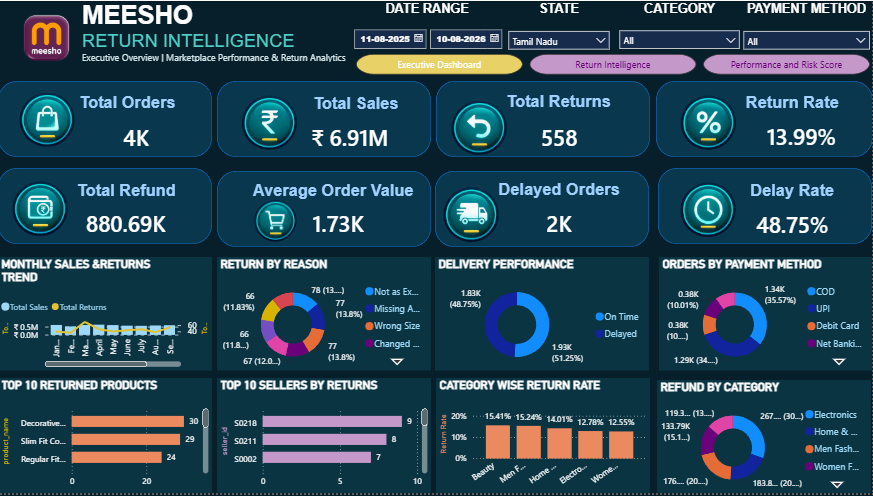

The page's visual inventory and layout, read from the dashboard file:
{"tool":"powerbi","page":{"name":"Executive Dashboard","canvas":[1280,720],"ordinal":0},"visuals":[{"type":"textbox","box":[122.5,0,532.5,88.8],"z":0},{"type":"image","box":[0,0,142,108.3],"z":1},{"type":"slicer","title":"DATE RANGE","fields":{"Values":["meesho_project orders.order_date"]},"box":[514.3,0,228.6,77.1],"z":3},{"type":"slicer","title":"STATE","fields":{"Values":["meesho_project customers.state"]},"box":[741.4,0,158,89.3],"z":4},{"type":"slicer","title":"PAYMENT METHOD","fields":{"Values":["meesho_project orders.payment_method"]},"box":[1085.7,0,194.6,71.7],"z":5},{"type":"slicer","title":"CATEGORY","fields":{"Values":["meesho_project products.category"]},"box":[904,0,185.9,74.6],"z":6},{"type":"shape","box":[0,117.1,313.2,111.2],"z":7},{"type":"textbox","box":[68.6,130,241.4,38.6],"z":8},{"type":"cardVisual","fields":{"Data":["Measures (2).Total Orders"]},"box":[157.1,172.9,91.4,50],"z":9},{"type":"shape","box":[320.5,117.1,313.2,111.2],"z":10},{"type":"shape","box":[320,248.6,313.2,111.2],"z":11},{"type":"shape","box":[0,244.3,313.2,111.2],"z":12},{"type":"shape","box":[640,248.6,313.2,111.2],"z":13},{"type":"shape","box":[965.7,244.3,313.2,111.2],"z":14},{"type":"shape","box":[641.4,117.1,313.2,111.2],"z":15},{"type":"shape","box":[962.9,117.1,317.1,111.4],"z":16},{"type":"cardVisual","fields":{"Data":["Measures (2).Return Rate"]},"box":[1117.1,171.4,118.6,50],"z":17},{"type":"cardVisual","fields":{"Data":["Measures (2).Total Returns"]},"box":[775.7,172.9,91.4,50],"z":18},{"type":"cardVisual","fields":{"Data":["Measures (2).Total Sales"]},"box":[450,172.9,128.6,50],"z":19},{"type":"cardVisual","fields":{"Data":["Measures (2).Delay Rate"]},"box":[1105.7,300,112.9,50],"z":20},{"type":"cardVisual","fields":{"Data":["Measures (2).Delayed Orders"]},"box":[775.7,298.6,91.4,50],"z":21},{"type":"cardVisual","fields":{"Data":["Measures (2).Average Order Value"]},"box":[425.7,298.6,144.3,50],"z":22},{"type":"cardVisual","fields":{"Data":["Measures (2).Total Refund"]},"box":[121.4,298.6,131.4,50],"z":23},{"type":"textbox","box":[1060,258.6,205.7,41.4],"z":25},{"type":"textbox","box":[425.7,131.4,195.7,41.4],"z":26},{"type":"textbox","box":[715.7,257.1,211.4,41.4],"z":29},{"type":"textbox","box":[360,258.6,261.4,41.4],"z":30},{"type":"textbox","box":[88.6,258.6,197.1,41.4],"z":31},{"type":"textbox","box":[705.7,128.6,230,41.4],"z":32},{"type":"textbox","box":[1062.9,130,200,41.4],"z":33},{"type":"image","box":[10,130,122.9,87.1],"z":34},{"type":"image","box":[978.6,134.3,122.9,87.1],"z":35},{"type":"image","box":[978.6,261.4,122.9,87.1],"z":36},{"type":"image","box":[632.9,268.6,122.9,87.1],"z":37},{"type":"image","box":[354.3,288.6,105.7,67.1],"z":38},{"type":"image","box":[0,260,122.9,87.1],"z":39},{"type":"image","box":[644.3,141.4,122.9,87.1],"z":40},{"type":"image","box":[337.1,134.3,122.9,87.1],"z":41},{"type":"lineClusteredColumnComboChart","title":"MONTHLY SALES &RETURNS TREND","fields":{"Category":["meesho_project orders.order_date.Variation.Date Hierarchy.Month"],"Y":["Measures (2).Total Sales"],"Y2":["Measures (2).Total Returns"]},"box":[0,374.3,312.9,165.7],"z":42},{"type":"donutChart","title":"RETURN BY REASON","fields":{"Category":["meesho_project returns.return_reason"],"Y":["Measures (2).Total Returns"]},"box":[320,374.3,312.9,165.7],"z":43},{"type":"donutChart","title":"DELIVERY PERFORMANCE","fields":{"Category":["meesho_project delivery.delivery_status"],"Y":["CountNonNull(meesho_project delivery.order_id)"]},"box":[640,374.3,312.9,165.7],"z":44},{"type":"donutChart","title":"ORDERS BY PAYMENT METHOD","fields":{"Category":["meesho_project orders.payment_method"],"Y":["CountNonNull(meesho_project delivery.order_id)"]},"box":[967.3,374.6,312.9,165.7],"z":45},{"type":"clusteredBarChart","title":"TOP 10 RETURNED PRODUCTS","fields":{"Category":["meesho_project products.product_name"],"Y":["Measures (2).Total Returns"]},"box":[0,551.4,312.9,168.6],"z":46},{"type":"clusteredBarChart","title":"TOP 10 SELLERS BY RETURNS","fields":{"Category":["meesho_project products.seller_id"],"Y":["Measures (2).Total Returns"]},"box":[320,551.7,312.9,168.6],"z":47},{"type":"clusteredColumnChart","title":"CATEGORY WISE RETURN RATE","fields":{"Category":["meesho_project products.category"],"Y":["Measures (2).Return Rate"]},"box":[641.7,551.7,312.9,168.6],"z":48},{"type":"donutChart","title":"REFUND BY CATEGORY","fields":{"Category":["meesho_project products.category"],"Y":["Measures (2).Total Refund"]},"box":[965,555,312.9,165.7],"z":49},{"type":"pageNavigator","box":[523.9,77.6,753.7,30.7],"z":50}]}

Visuals, with their boxes in screenshot pixels (x1, y1, x2, y2), scaled from the page's 1280x720 canvas onto the 873x496 screenshot:
textbox: bbox=(84, 0, 447, 61)
image: bbox=(0, 0, 97, 75)
"DATE RANGE" slicer: bbox=(351, 0, 507, 53)
"STATE" slicer: bbox=(506, 0, 613, 62)
"PAYMENT METHOD" slicer: bbox=(740, 0, 872, 49)
"CATEGORY" slicer: bbox=(617, 0, 743, 51)
shape: bbox=(0, 81, 214, 157)
textbox: bbox=(47, 90, 211, 116)
cardVisual - Measures (2).Total Orders: bbox=(107, 119, 169, 154)
shape: bbox=(219, 81, 432, 157)
shape: bbox=(218, 171, 432, 248)
shape: bbox=(0, 168, 214, 245)
shape: bbox=(436, 171, 650, 248)
shape: bbox=(659, 168, 872, 245)
shape: bbox=(437, 81, 651, 157)
shape: bbox=(657, 81, 872, 157)
cardVisual - Measures (2).Return Rate: bbox=(762, 118, 843, 153)
cardVisual - Measures (2).Total Returns: bbox=(529, 119, 591, 154)
cardVisual - Measures (2).Total Sales: bbox=(307, 119, 395, 154)
cardVisual - Measures (2).Delay Rate: bbox=(754, 207, 831, 241)
cardVisual - Measures (2).Delayed Orders: bbox=(529, 206, 591, 240)
cardVisual - Measures (2).Average Order Value: bbox=(290, 206, 389, 240)
cardVisual - Measures (2).Total Refund: bbox=(83, 206, 172, 240)
textbox: bbox=(723, 178, 863, 207)
textbox: bbox=(290, 91, 424, 119)
textbox: bbox=(488, 177, 632, 206)
textbox: bbox=(246, 178, 424, 207)
textbox: bbox=(60, 178, 195, 207)
textbox: bbox=(481, 89, 638, 117)
textbox: bbox=(725, 90, 861, 118)
image: bbox=(7, 90, 91, 150)
image: bbox=(667, 93, 751, 153)
image: bbox=(667, 180, 751, 240)
image: bbox=(432, 185, 515, 245)
image: bbox=(242, 199, 314, 245)
image: bbox=(0, 179, 84, 239)
image: bbox=(439, 97, 523, 157)
image: bbox=(230, 93, 314, 153)
"MONTHLY SALES &RETURNS TREND" lineClusteredColumnComboChart: bbox=(0, 258, 213, 372)
"RETURN BY REASON" donutChart: bbox=(218, 258, 432, 372)
"DELIVERY PERFORMANCE" donutChart: bbox=(436, 258, 650, 372)
"ORDERS BY PAYMENT METHOD" donutChart: bbox=(660, 258, 872, 372)
"TOP 10 RETURNED PRODUCTS" clusteredBarChart: bbox=(0, 380, 213, 495)
"TOP 10 SELLERS BY RETURNS" clusteredBarChart: bbox=(218, 380, 432, 495)
"CATEGORY WISE RETURN RATE" clusteredColumnChart: bbox=(438, 380, 651, 495)
"REFUND BY CATEGORY" donutChart: bbox=(658, 382, 872, 495)
pageNavigator: bbox=(357, 53, 871, 75)
